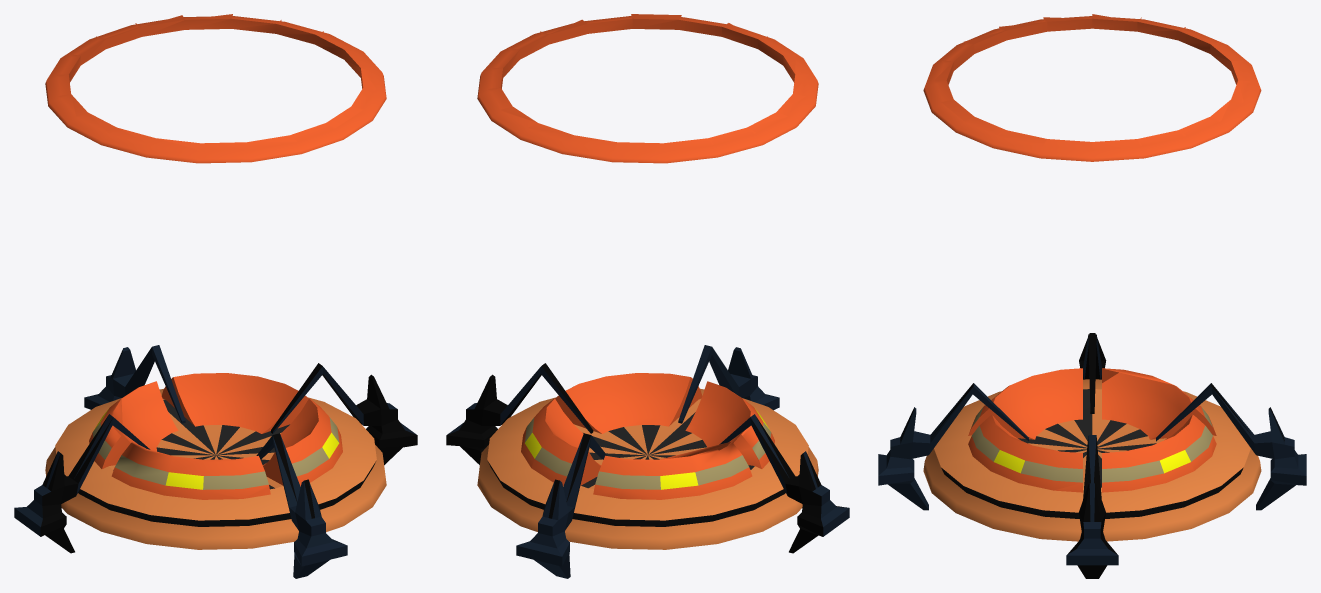
File: DTower.obj
The picture shows the model from 3 angles, left to right: view 1: azimuth 30°, elevation 25°; view 2: azimuth 150°, elevation 25°; view 3: azimuth 270°, elevation 25°; orthographic projection.
Parts seen in each view (by area): view 1: pCylinder2, pCylinder5, pCone2 pCone3 pCone4 pCone5, polySurface5 polySurface12, polySurface9 polySurface5, polySurface5 polySurface10, polySurface5 polySurface11; view 2: pCylinder2, pCylinder5, pCone2 pCone3 pCone4 pCone5, polySurface5 polySurface11, polySurface5 polySurface10, polySurface9 polySurface5, polySurface5 polySurface12; view 3: pCylinder2, pCylinder5, pCone2 pCone3 pCone4 pCone5, polySurface5 polySurface10, polySurface9 polySurface5, polySurface5 polySurface12, polySurface5 polySurface11.
Part boxes in pixels (left/top/right/bottom): pCylinder2: left=45, top=389, right=386, bottom=549; pCylinder5: left=45, top=14, right=386, bottom=163; pCone2 pCone3 pCone4 pCone5: left=14, top=345, right=417, bottom=578; polySurface5 polySurface12: left=111, top=441, right=270, bottom=499; polySurface9 polySurface5: left=161, top=373, right=308, bottom=433; polySurface5 polySurface10: left=263, top=398, right=342, bottom=485; polySurface5 polySurface11: left=89, top=381, right=178, bottom=468; pCylinder2: left=477, top=388, right=818, bottom=549; pCylinder5: left=477, top=14, right=818, bottom=163; pCone2 pCone3 pCone4 pCone5: left=446, top=345, right=849, bottom=578; polySurface5 polySurface11: left=593, top=442, right=752, bottom=499; polySurface5 polySurface10: left=555, top=373, right=702, bottom=433; polySurface9 polySurface5: left=521, top=398, right=601, bottom=485; polySurface5 polySurface12: left=685, top=381, right=774, bottom=468; pCylinder2: left=923, top=379, right=1261, bottom=541; pCylinder5: left=923, top=14, right=1261, bottom=161; pCone2 pCone3 pCone4 pCone5: left=878, top=333, right=1306, bottom=578; polySurface5 polySurface10: left=968, top=415, right=1082, bottom=492; polySurface9 polySurface5: left=1102, top=415, right=1216, bottom=492; polySurface5 polySurface12: left=968, top=368, right=1082, bottom=439; polySurface5 polySurface11: left=1102, top=368, right=1216, bottom=439.
Size of what is drawn, in the model's own units: 7.41 by 8.15 by 7.41.
